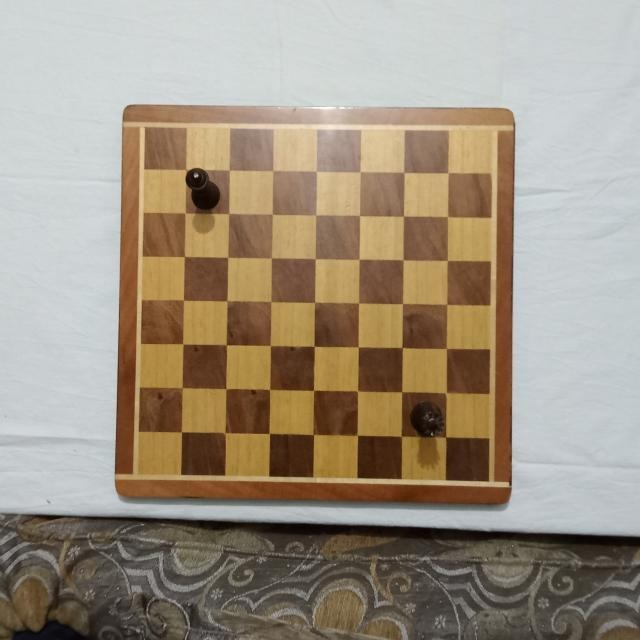black-bishop: (186, 168, 220, 212)
black-queen: (408, 400, 445, 442)
